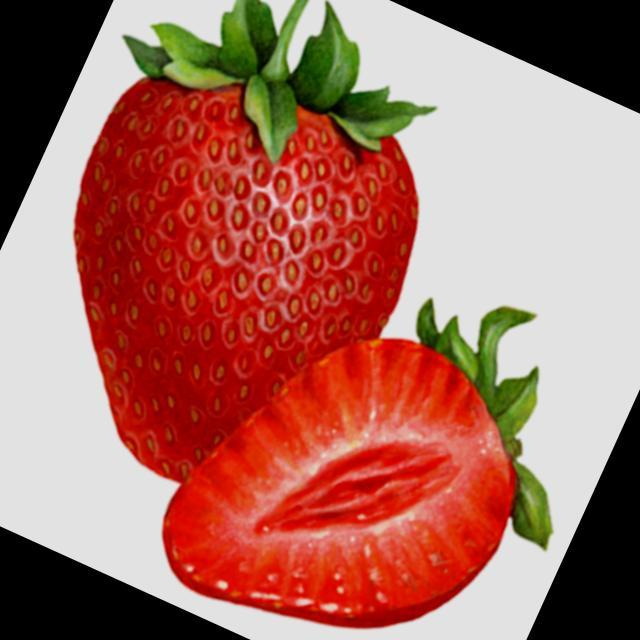strawberry: (75, 0, 432, 481), (165, 300, 552, 626)
